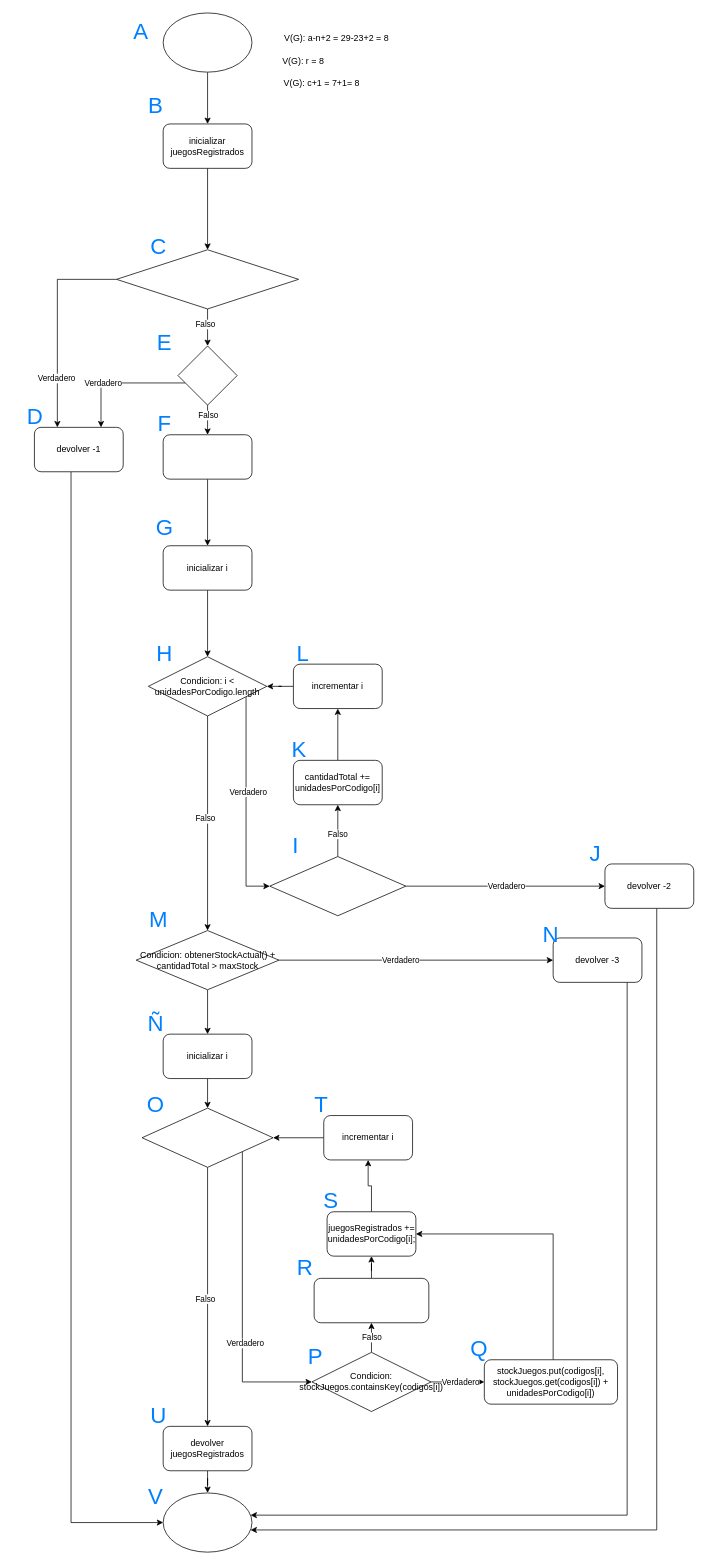
This 707x1565 diagram has some shape labels left out. Here are the shapes that lost their labels. From the top down, the centre of each, then its label:
At (x=207, y=42): "Inicio".
At (x=207, y=279): "Condicion: codigos.length != unidadesporcodigo.length".
At (x=207, y=375): "Condicion: codigos.length == 0".
At (x=207, y=456): "inicializar cantidadTotal".
At (x=337, y=886): "Condicion: unidadesPorCodigo[i] < 0".
At (x=207, y=1137): "Condicion: i < Codigo.length".
At (x=371, y=1300): "stockJuegos.put(codigos[i], unidadesPorCodigo[i])".
At (x=207, y=1522): "Fin".
